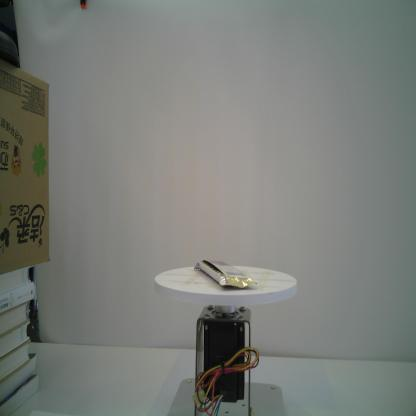Chocolate: (193, 256, 259, 291)
